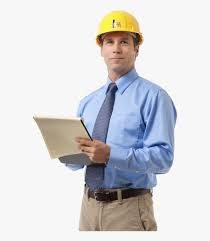Person_wearing_helmet: (92, 3, 147, 46)
